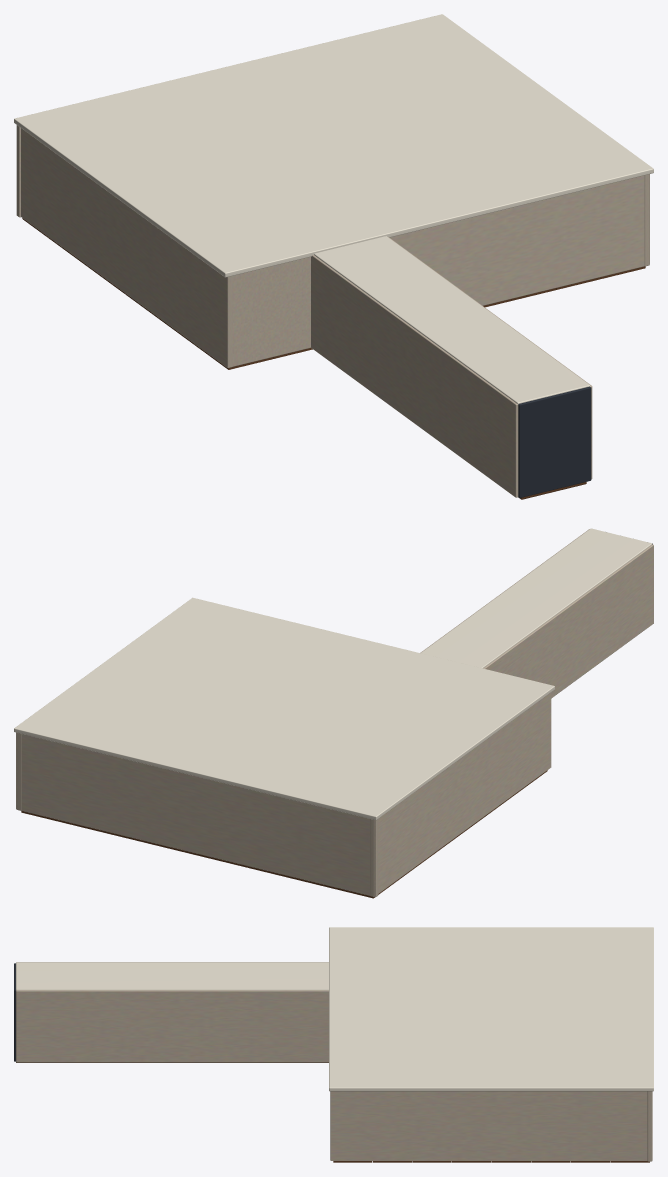
File: apartment.glb
The picture shows the model from 3 angles, top to bottom: view 1: azimuth 30°, elevation 25°; view 2: azimuth 150°, elevation 25°; view 3: azimuth 270°, elevation 25°; orthographic projection. The views are drawn at different scales.
Parts seen in each view (by area): view 1: Apartment_Cream lacquer, Apartment_Warm plaster, Apartment_Graphite, Apartment_Oak; view 2: Apartment_Cream lacquer, Apartment_Warm plaster, Apartment_Oak; view 3: Apartment_Cream lacquer, Apartment_Warm plaster, Apartment_Oak.
Boxes of the visible parts, bbox=[...] form: Apartment_Cream lacquer: bbox=[14, 14, 653, 404]; Apartment_Warm plaster: bbox=[16, 125, 649, 497]; Apartment_Graphite: bbox=[518, 386, 591, 497]; Apartment_Oak: bbox=[22, 218, 645, 499]; Apartment_Cream lacquer: bbox=[14, 528, 652, 820]; Apartment_Warm plaster: bbox=[16, 529, 653, 897]; Apartment_Oak: bbox=[21, 770, 547, 898]; Apartment_Cream lacquer: bbox=[16, 927, 653, 1091]; Apartment_Warm plaster: bbox=[16, 990, 652, 1161]; Apartment_Oak: bbox=[16, 1062, 649, 1162].
Bounding box in the file's own units: 14.4 × 3.21 × 24.23.
Materials: 13 (3 with a texture image).
